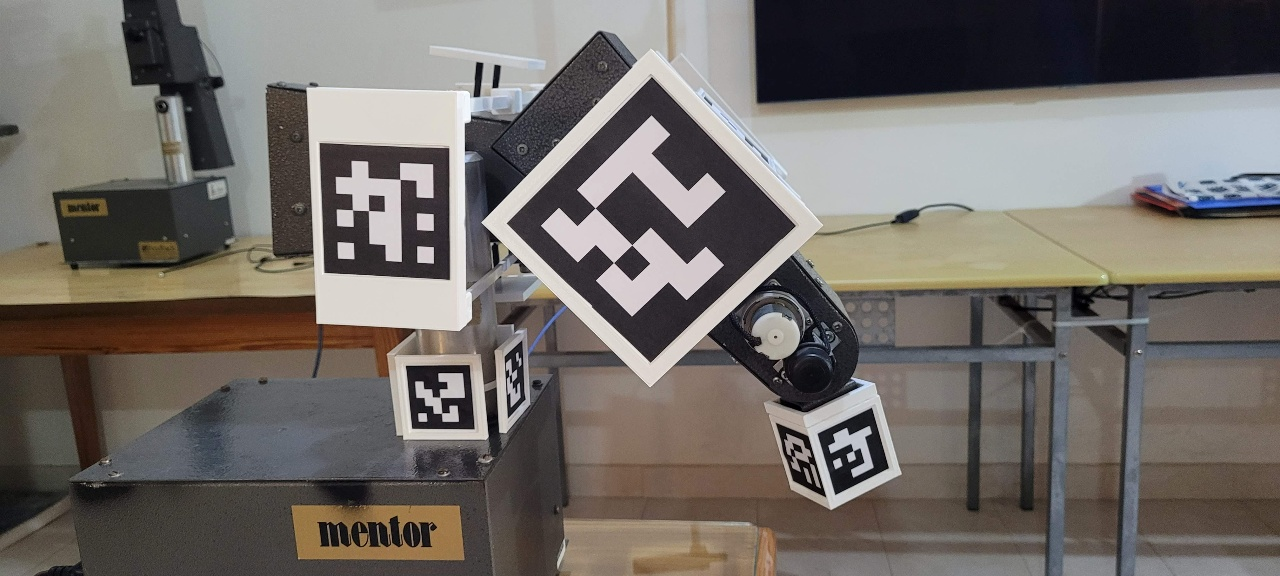Robot: (155, 1, 881, 576)
